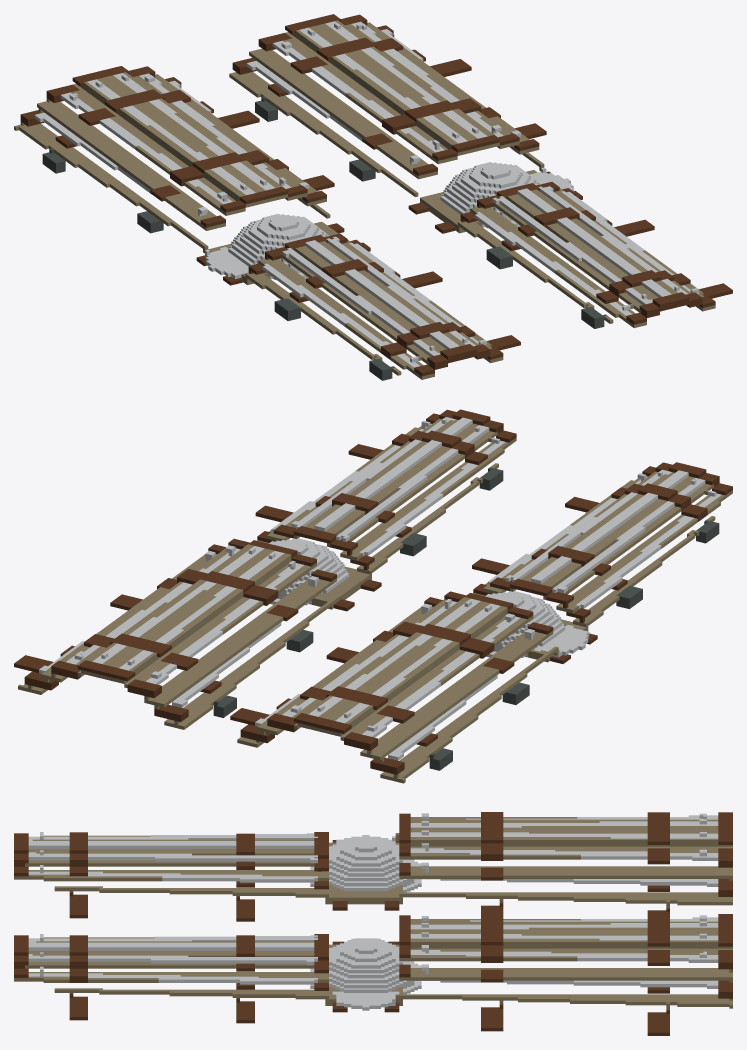
File: legguard_lc_brigandine.glb
The picture shows the model from 3 angles, top to bottom: view 1: azimuth 30°, elevation 25°; view 2: azimuth 150°, elevation 25°; view 3: azimuth 270°, elevation 25°; orthographic projection. The views are drawn at different scales.
Visible parts, largest first — view 1: legguard_lc_brigandine:compound; view 2: legguard_lc_brigandine:compound; view 3: legguard_lc_brigandine:compound.
Boxes of the visible parts, x1,y1,x2,y2 form: legguard_lc_brigandine:compound: (14, 14, 732, 380); legguard_lc_brigandine:compound: (14, 409, 732, 783); legguard_lc_brigandine:compound: (14, 812, 732, 1035).
Bounding box in the file's own units: 0.512 × 0.06 × 0.776.
